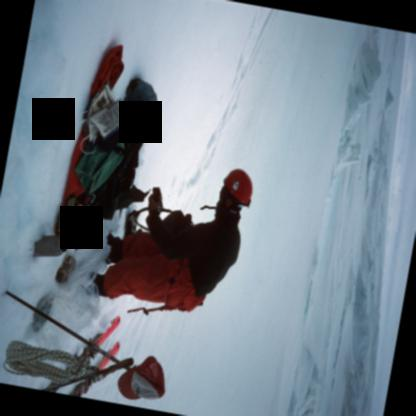backpack: (93, 119, 131, 156)
